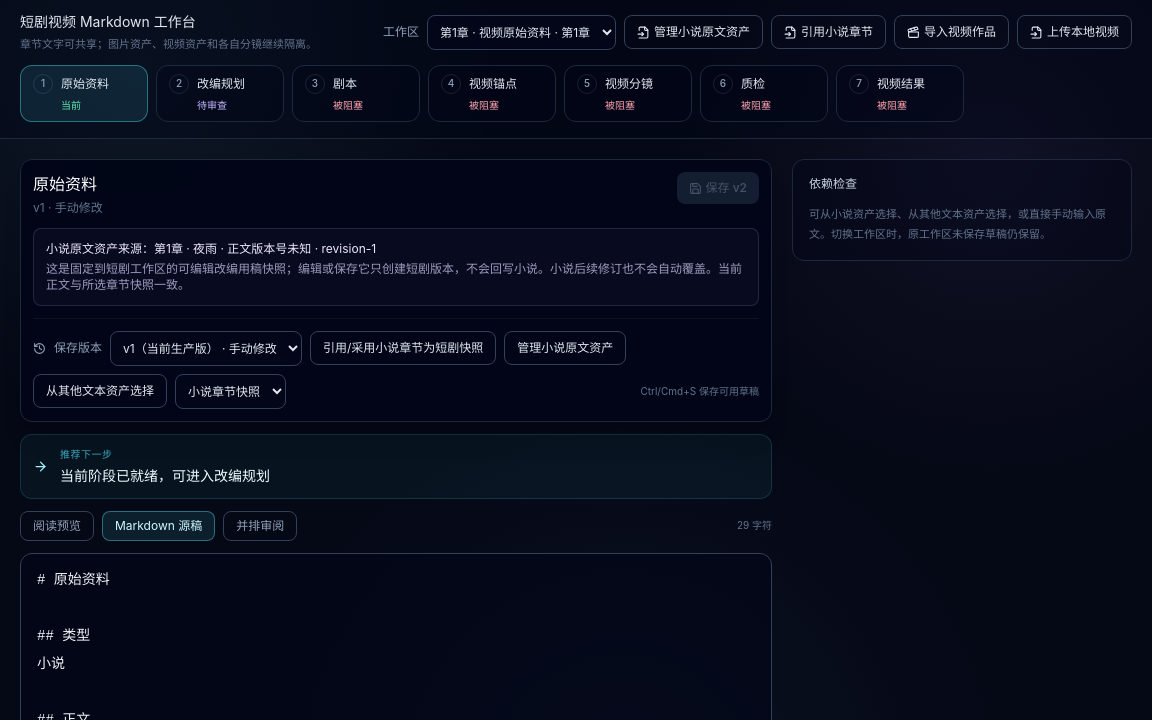
Test: imports a current-project video work as a workflow-level Agent reference
Click the button "导入视频作品".
click(952, 32)  # box [894,15,1009,49]
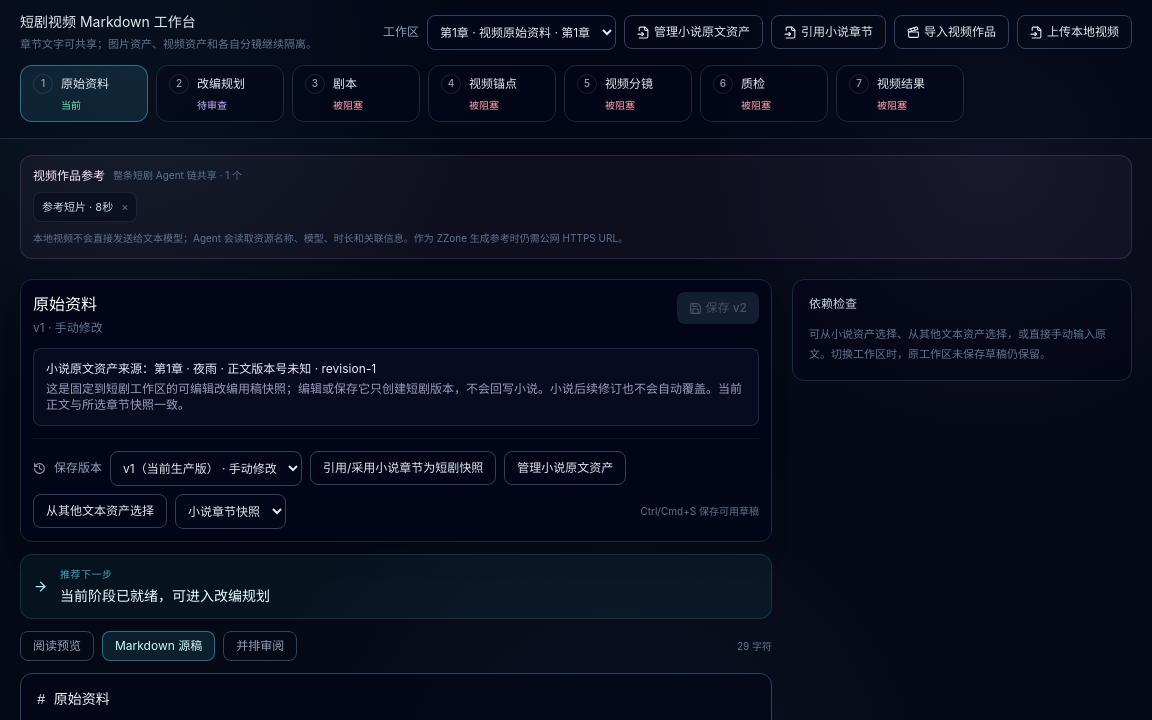
Expected: the element named "短剧视频作品参考" shows "参考短片 · 8秒", [20,154,1132,259]
